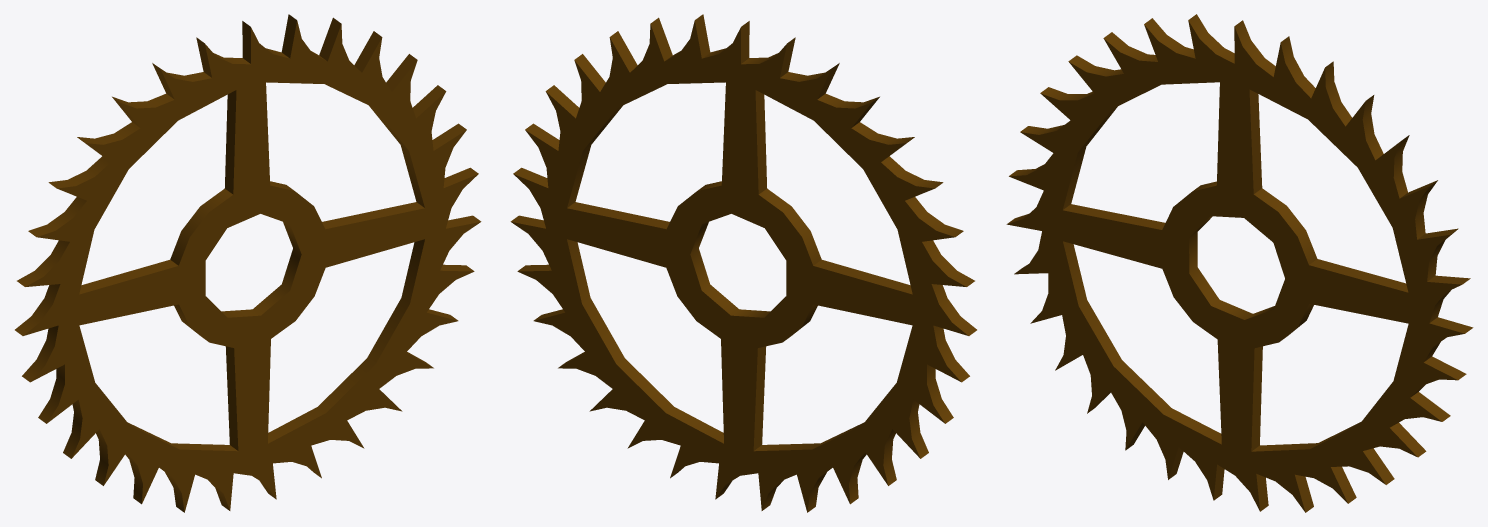
Rendered from Roue Quantieme.obj.
3 views of the same model, side by side, from view 1: azimuth 30°, elevation 25°; view 2: azimuth 150°, elevation 25°; view 3: azimuth 330°, elevation 25° (orthographic).
Visible parts, largest first — view 1: Face_1, Face_76, Face_81, Face_66, Face_65, Face_71, Face_67, Face_77, Face_18, Face_16, Face_20, Face_14 (+5 smaller); view 2: Face_2, Face_76, Face_81, Face_66, Face_65, Face_71, Face_67, Face_77, Face_18, Face_16, Face_20, Face_14 (+5 smaller); view 3: Face_1, Face_72, Face_81, Face_78, Face_79, Face_73, Face_77, Face_67, Face_62, Face_64, Face_60, Face_4 (+5 smaller).
Part boxes in pixels (box(x1,y1,x2,y2)): Face_1: box(23, 20, 480, 511); Face_76: box(268, 239, 424, 443); Face_81: box(221, 222, 301, 317); Face_66: box(170, 188, 232, 265); Face_65: box(224, 90, 236, 194); Face_71: box(225, 346, 238, 450); Face_67: box(79, 260, 178, 294); Face_77: box(322, 202, 424, 229); Face_18: box(15, 284, 60, 335); Face_16: box(17, 240, 69, 286); Face_20: box(22, 325, 58, 382); Face_14: box(28, 197, 86, 236); Face_2: box(511, 20, 968, 511); Face_76: box(567, 239, 723, 443); Face_81: box(690, 222, 770, 317); Face_66: box(759, 188, 821, 265); Face_65: box(755, 90, 767, 194); Face_71: box(753, 346, 766, 450); Face_67: box(813, 260, 912, 294); Face_77: box(567, 202, 669, 229); Face_18: box(931, 284, 976, 335); Face_16: box(922, 240, 974, 286); Face_20: box(933, 325, 969, 382); Face_14: box(905, 197, 963, 236); Face_1: box(1006, 21, 1464, 512); Face_72: box(1063, 241, 1221, 444); Face_81: box(1189, 216, 1274, 319); Face_78: box(1254, 188, 1317, 264); Face_79: box(1249, 89, 1262, 193); Face_73: box(1251, 346, 1262, 451); Face_77: box(1309, 259, 1408, 292); Face_67: box(1063, 204, 1165, 229); Face_62: box(1280, 36, 1315, 98); Face_64: box(1234, 20, 1275, 76); Face_60: box(1325, 61, 1351, 126); Face_4: box(1188, 14, 1234, 63).
Bounding box in the file's own units: 0.0621 × 0.0621 × 0.002.
